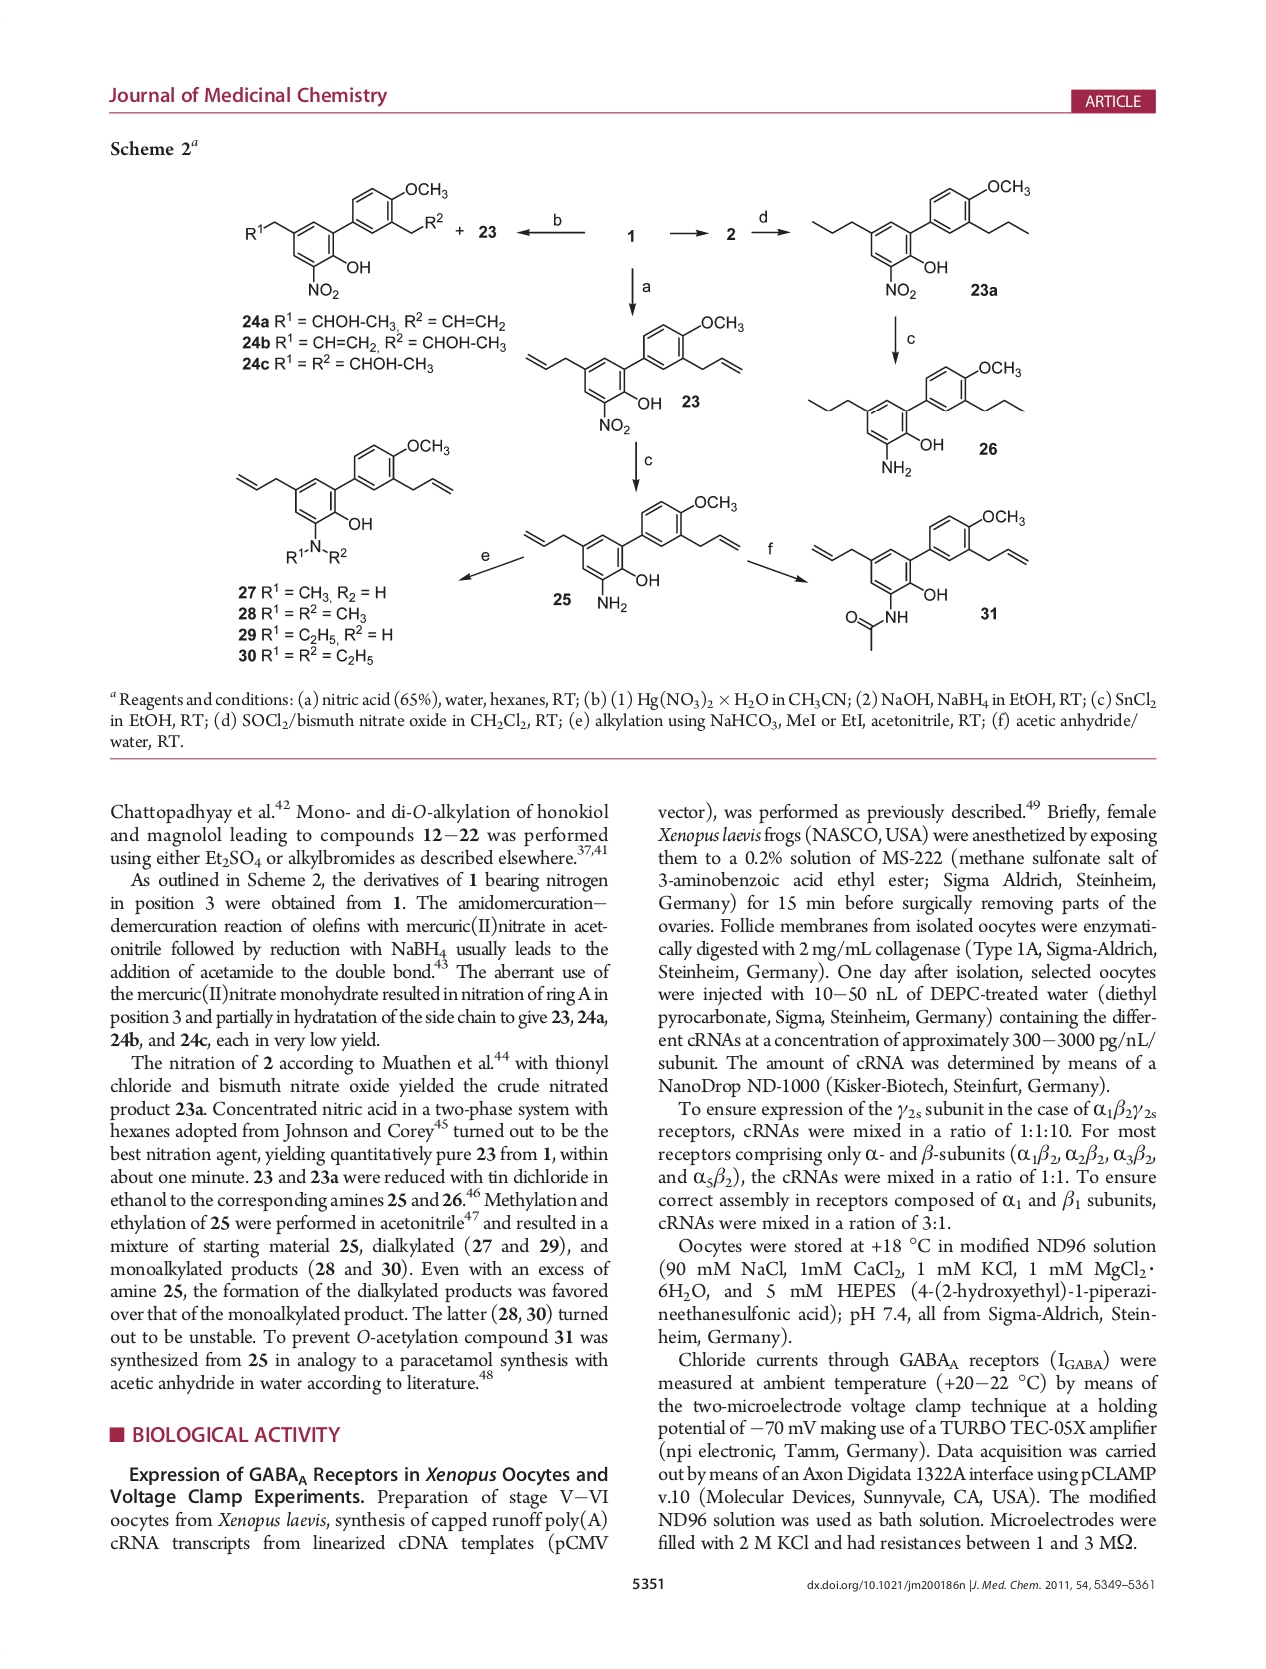exist_molecular: (809, 507, 1037, 653), (234, 436, 453, 567), (807, 176, 1033, 301), (521, 313, 747, 436), (807, 358, 1028, 480), (521, 493, 741, 616), (241, 180, 449, 301)
